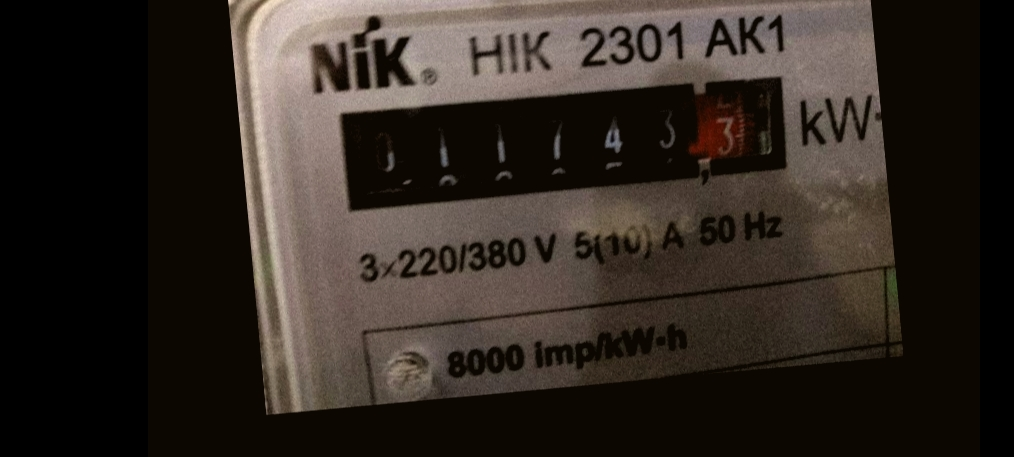0: (368, 126, 402, 176)
1: (488, 117, 513, 167), (433, 123, 455, 172)
3: (652, 103, 684, 153), (713, 112, 741, 158)
4: (598, 107, 630, 158)
7: (544, 114, 572, 164)
screen: (324, 62, 799, 223)
